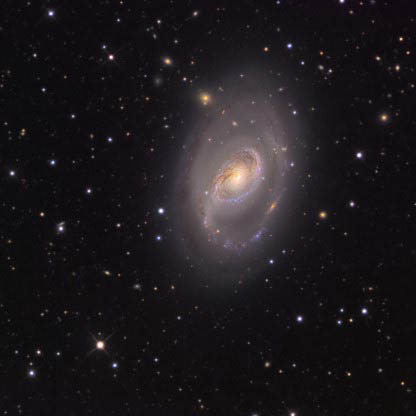Messier 96: (161, 56, 314, 296)
